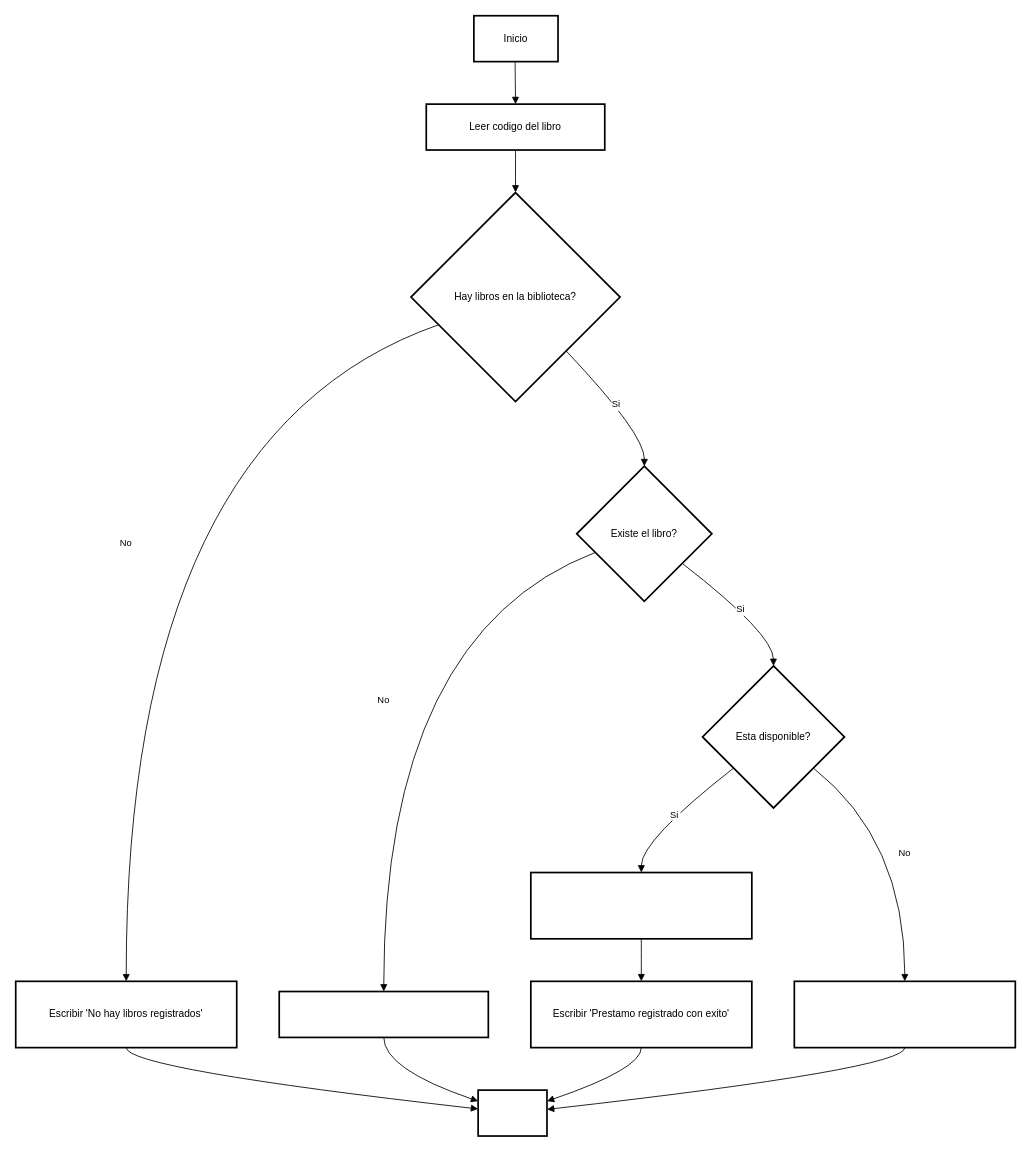
The diagram is 1030 pixels wide and 1151 high, and some of its shapes have lost their labels. Each missing label, with the centre of its shape:
"Cambiar disponibilidad a 'no disponible'" belongs at pixel 641 905.
"Escribir 'El libro no esta disponible'" belongs at pixel 904 1014.
"Escribir 'El libro no existe'" belongs at pixel 383 1014.
"Fin" belongs at pixel 512 1112.
